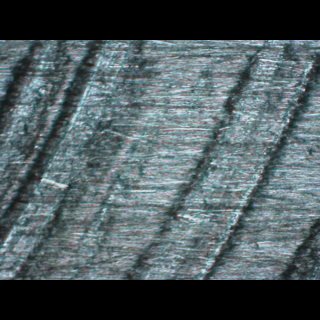d: (124, 40, 320, 277), (2, 42, 137, 279)
